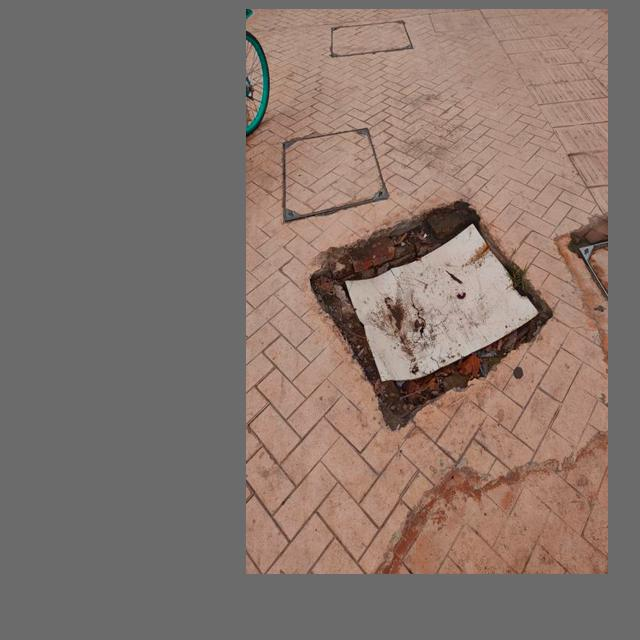broke: (302, 184, 560, 447)
